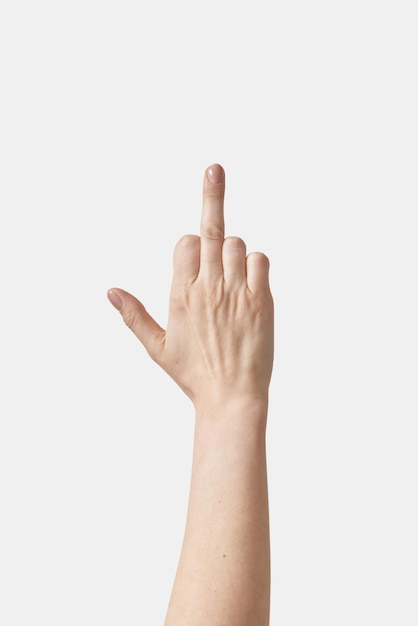insulting_gesture: (100, 163, 291, 405)
